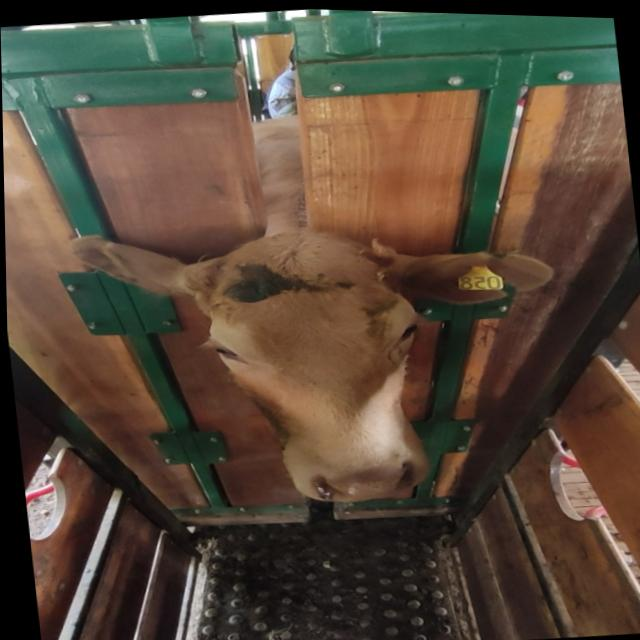cowFace: (202, 215, 443, 506)
